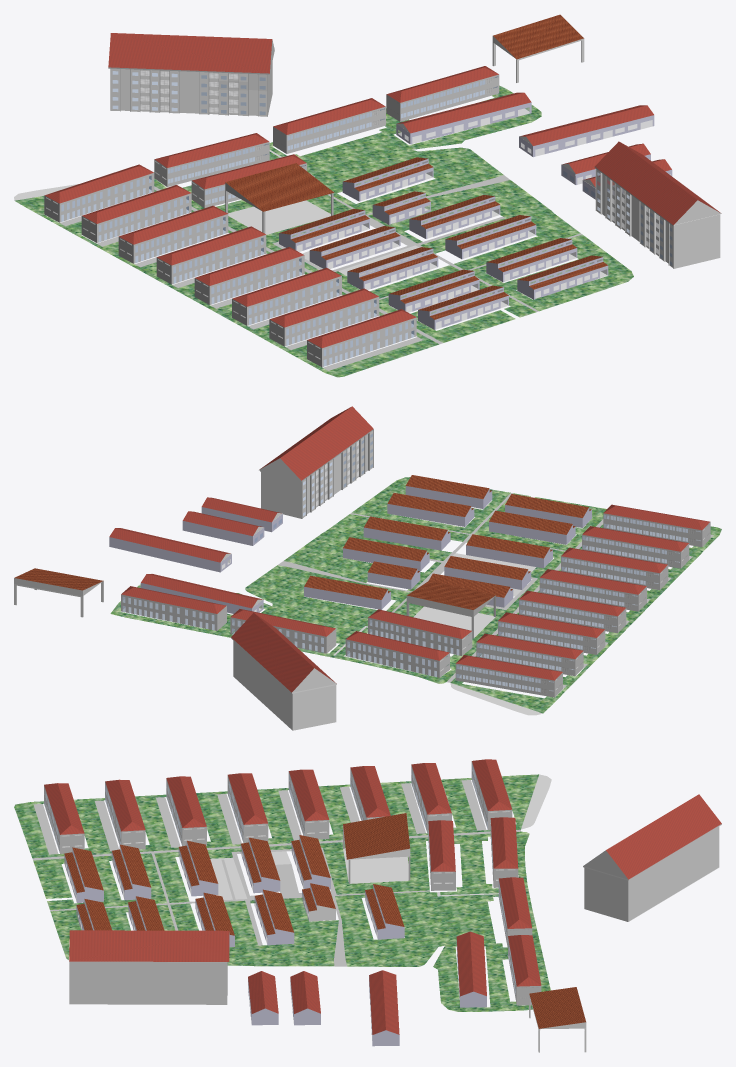
Rendered from KTXA_DHCT.glb.
3 renders of one model, top to bottom at view 1: azimuth 30°, elevation 25°; view 2: azimuth 150°, elevation 25°; view 3: azimuth 270°, elevation 25°, orthographic. The views are drawn at different scales.
Parts seen in each view (by area): view 1: Material2 (×44), Material3 (×10); view 2: Material2 (×60), Material3 (×10); view 3: Material2 (×50), Material3 (×8).
Boxes of the visible parts, left/top/right/bottom form: Material2 (×44): left=15, top=14, right=720, bottom=377; Material3 (×10): left=44, top=142, right=416, bottom=367; Material2 (×60): left=14, top=406, right=721, bottom=730; Material3 (×10): left=345, top=513, right=710, bottom=697; Material2 (×50): left=14, top=759, right=721, bottom=1034; Material3 (×8): left=44, top=761, right=512, bottom=890.
Bounding box in the file's own units: 10489 × 1170 × 11284.
21 materials, 10 textured.
